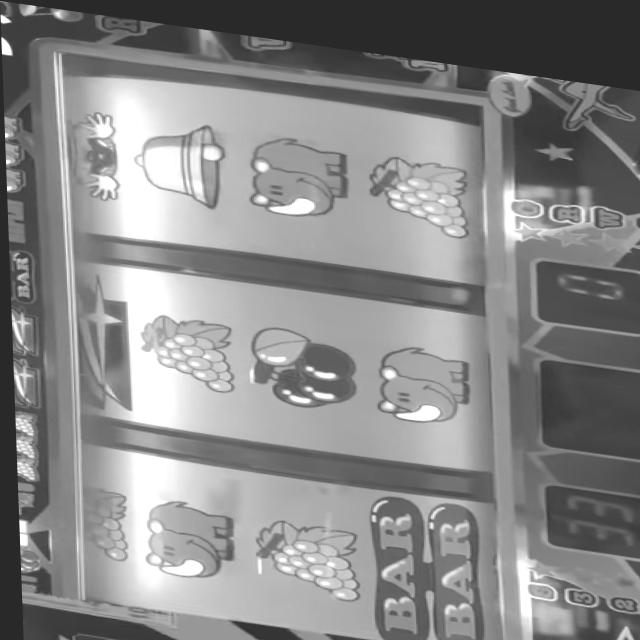bar: (368, 478, 480, 640), (9, 247, 34, 302)
bell: (127, 111, 229, 205)
cherry: (245, 314, 358, 406), (16, 547, 41, 576)
clown: (64, 104, 122, 202)
display: (61, 42, 499, 640)
elephant: (240, 124, 353, 214), (137, 489, 236, 579), (370, 331, 471, 418), (5, 165, 28, 193), (4, 140, 23, 166), (3, 112, 19, 140)
grape: (362, 136, 473, 226), (248, 506, 361, 591), (136, 306, 235, 389), (78, 481, 134, 561), (13, 456, 42, 481), (13, 434, 36, 456), (13, 414, 33, 435)
z: (73, 271, 137, 415), (11, 359, 40, 411), (9, 308, 38, 358)
